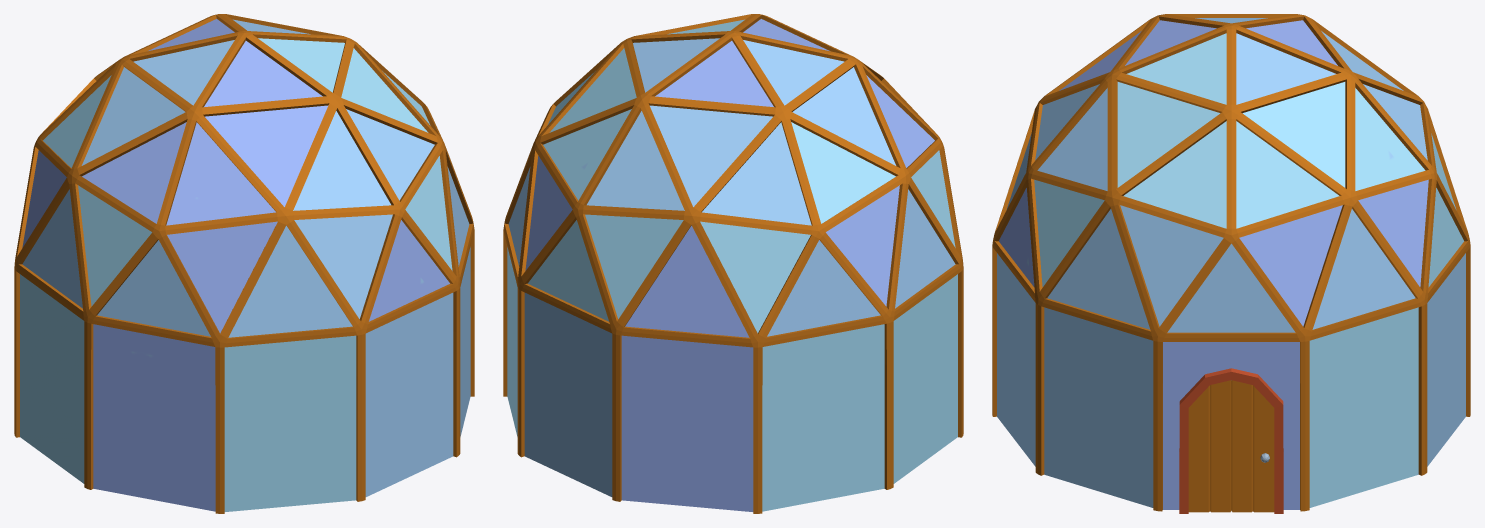
The model's file is dome_house.fbx.
The picture shows the model from 3 angles, left to right: view 1: azimuth 30°, elevation 25°; view 2: azimuth 150°, elevation 25°; view 3: azimuth 270°, elevation 25°; orthographic projection.
Parts seen in each view (by area): view 1: house; view 2: house; view 3: house, door, door frame.
Part boxes in pixels (bbox=[...]): house: bbox=[14, 14, 474, 513]; house: bbox=[503, 14, 963, 513]; house: bbox=[992, 14, 1470, 511]; door: bbox=[1188, 380, 1274, 512]; door frame: bbox=[1179, 368, 1283, 513].
Bounding box in the file's own units: 198 × 182 × 203.
